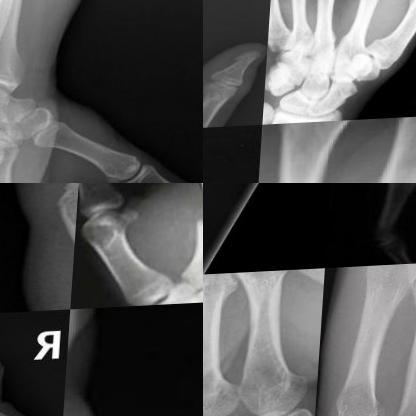fracture: (296, 271, 327, 303)
